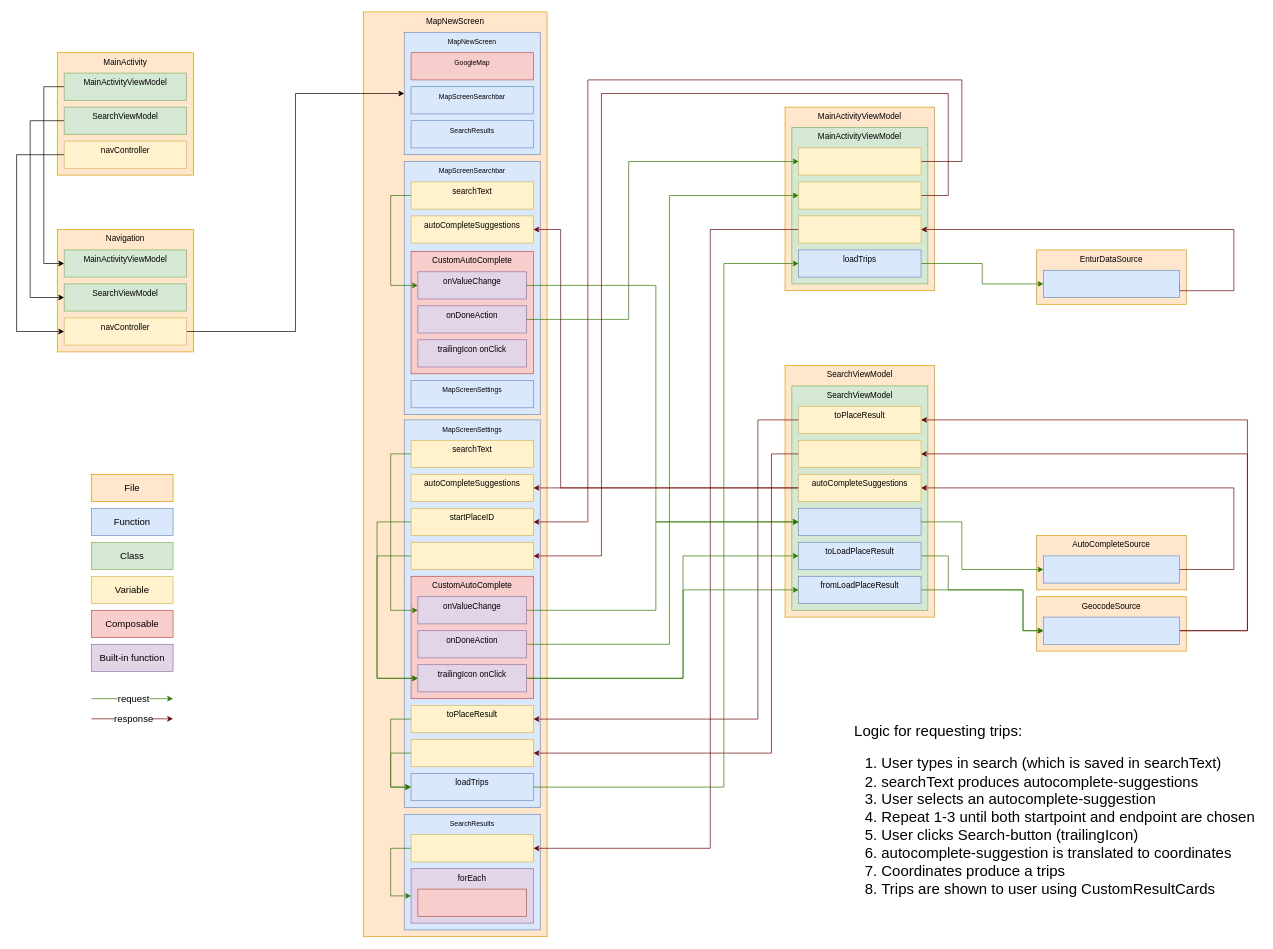
Image size: 1273x949. Some labels were removed from this diagram. Each missing label, with the centre of its shape:
CustomResultCard: the point at 472,902
endPlaceID: the point at 471,556
endPlaceResult: the point at 859,454
endPointData: the point at 859,195
fetchAutoCompleteSearch: the point at 1111,569
fetchGeoLocation: the point at 1111,630
fetchTrips: the point at 1111,284
fromPlaceResult: the point at 471,753
loadAutoCompleteSuggestions: the point at 859,522
startPointData: the point at 859,161
trips: the point at 471,848
tripsData: the point at 859,229
